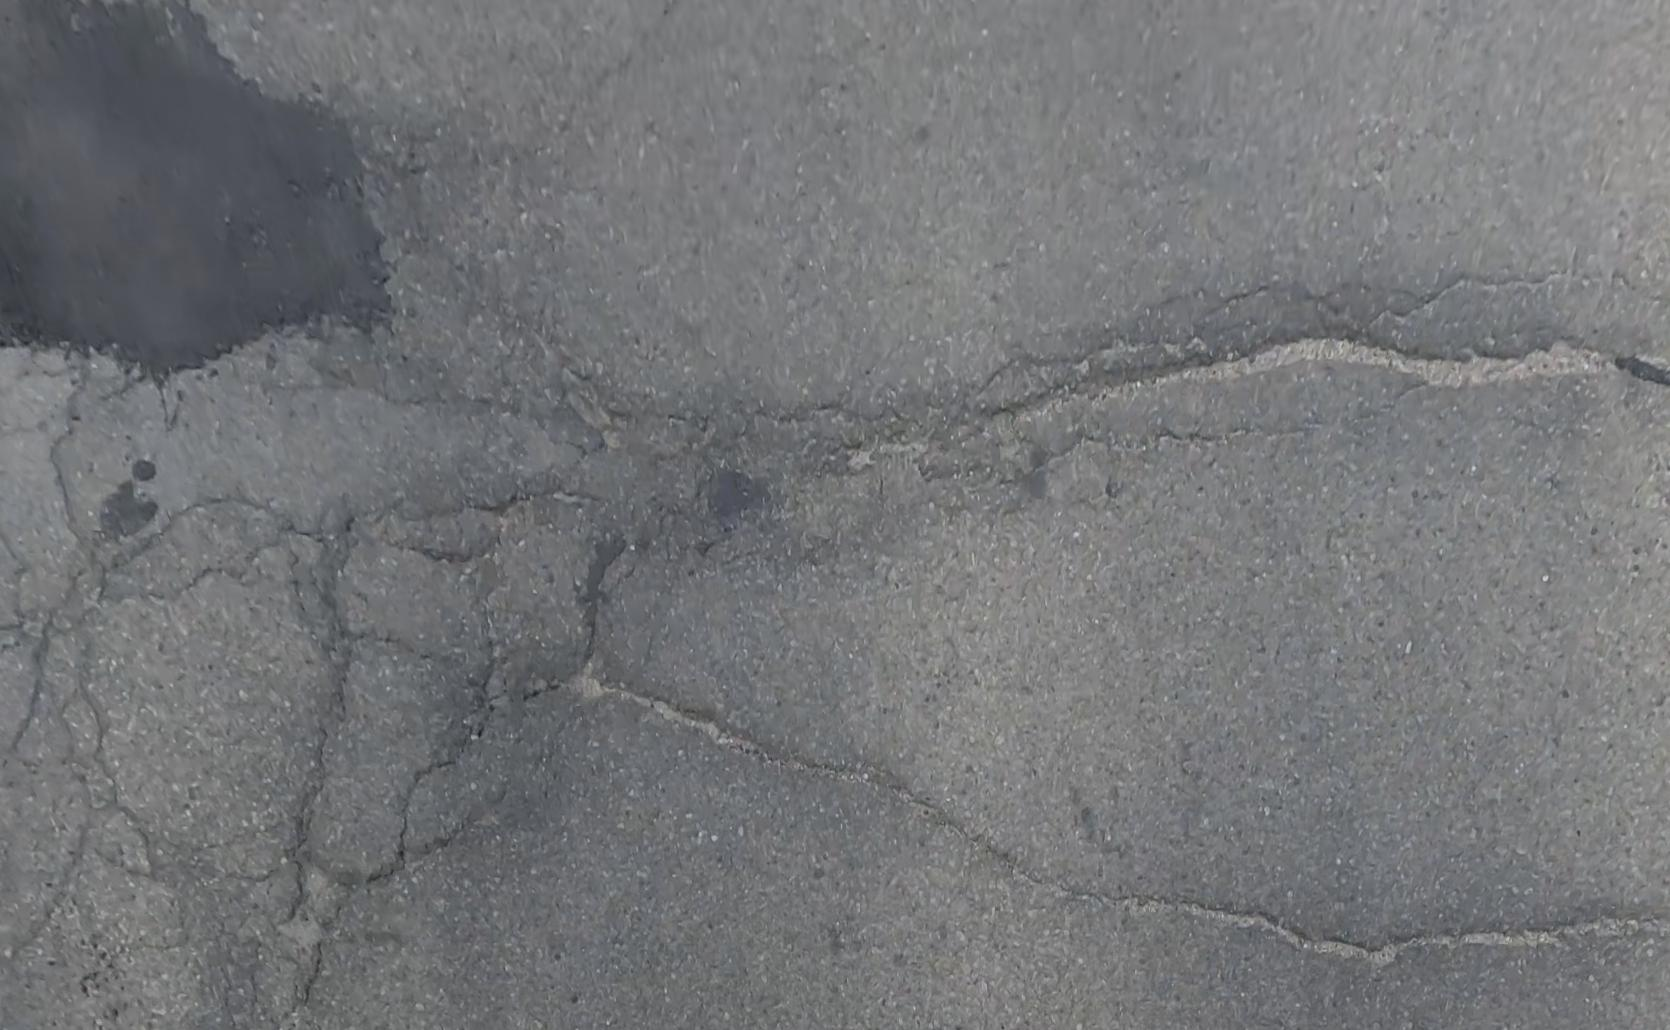pothole: (276, 866, 342, 972)
pothole_patch_good: (0, 0, 386, 370)
